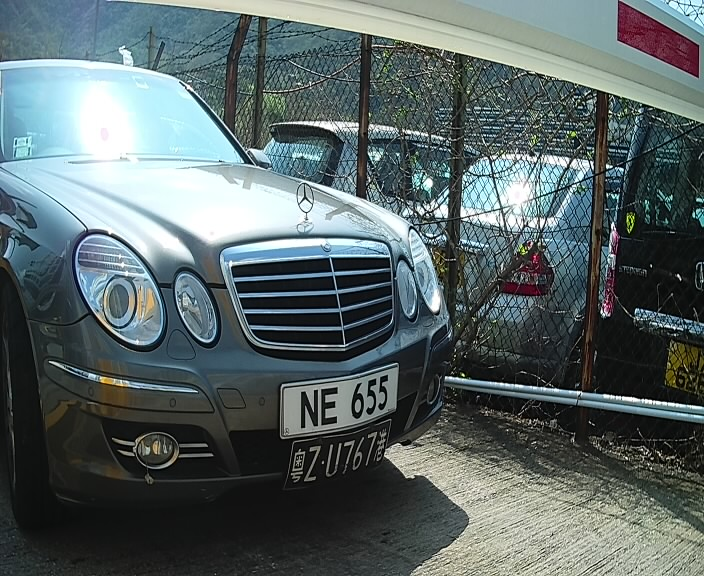License Plate: (270, 355, 408, 454)
